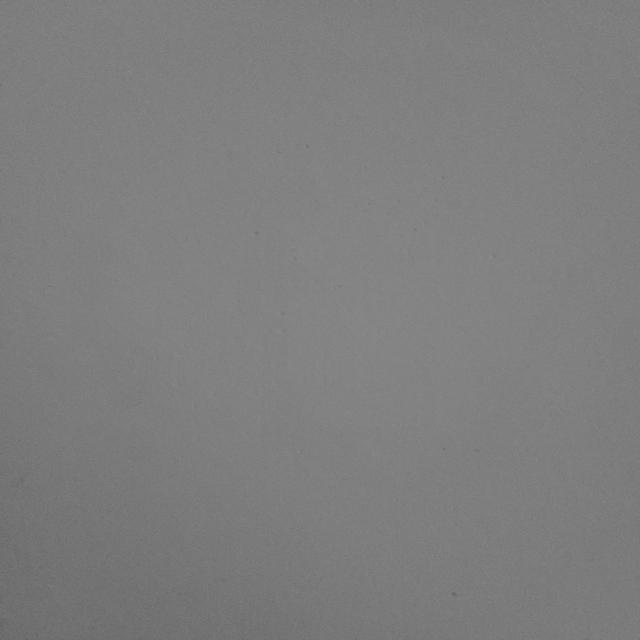rough and patchy surface: (12, 5, 630, 628)
